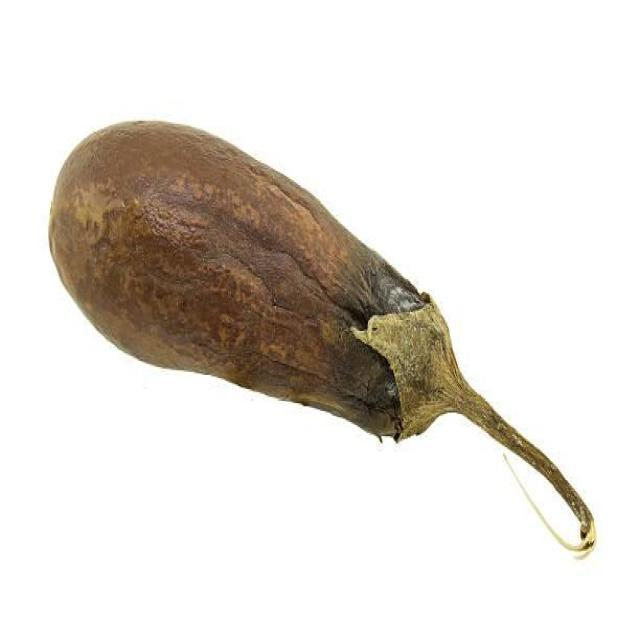eggplant: (48, 119, 595, 546)
